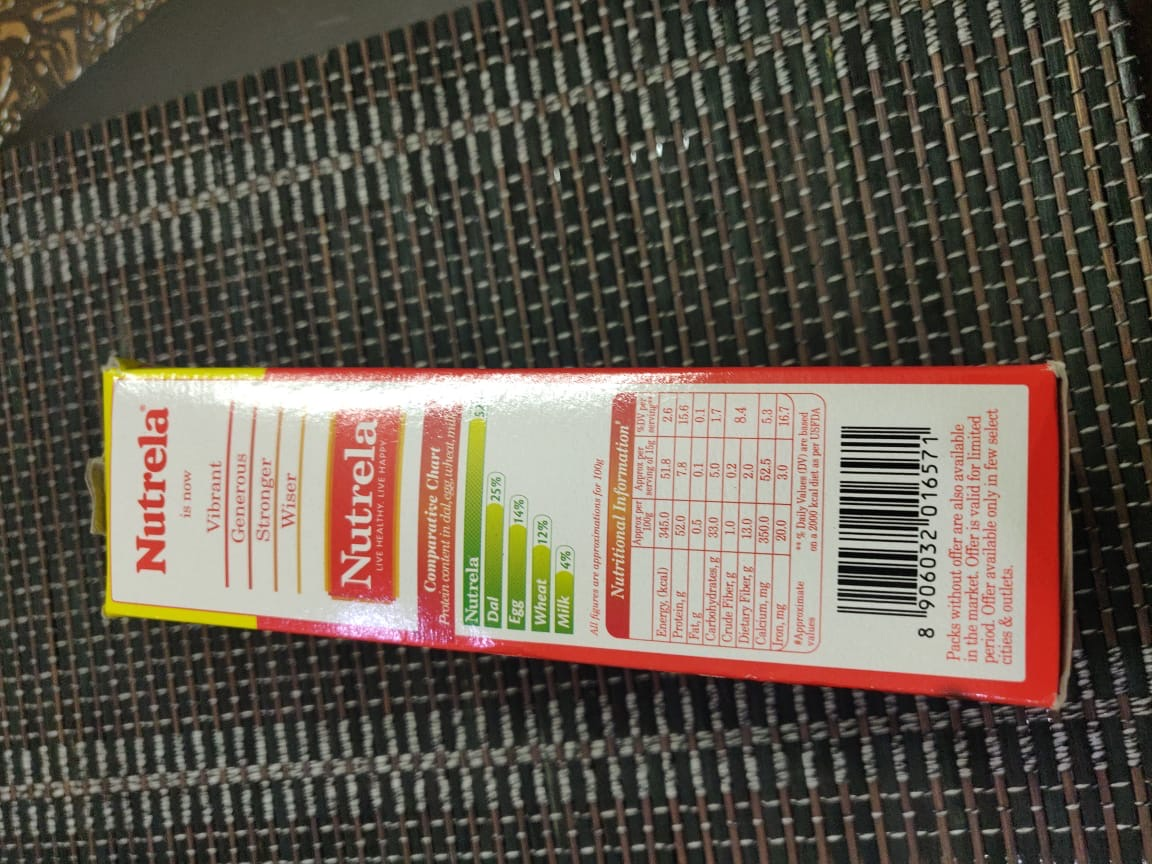barcode: (833, 411, 944, 651)
